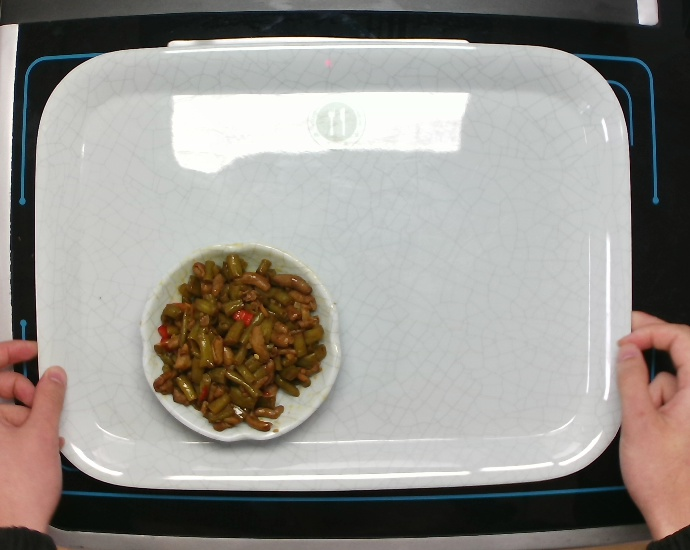JYsf-Ao_Yuan_Wan: (137, 238, 344, 444)
